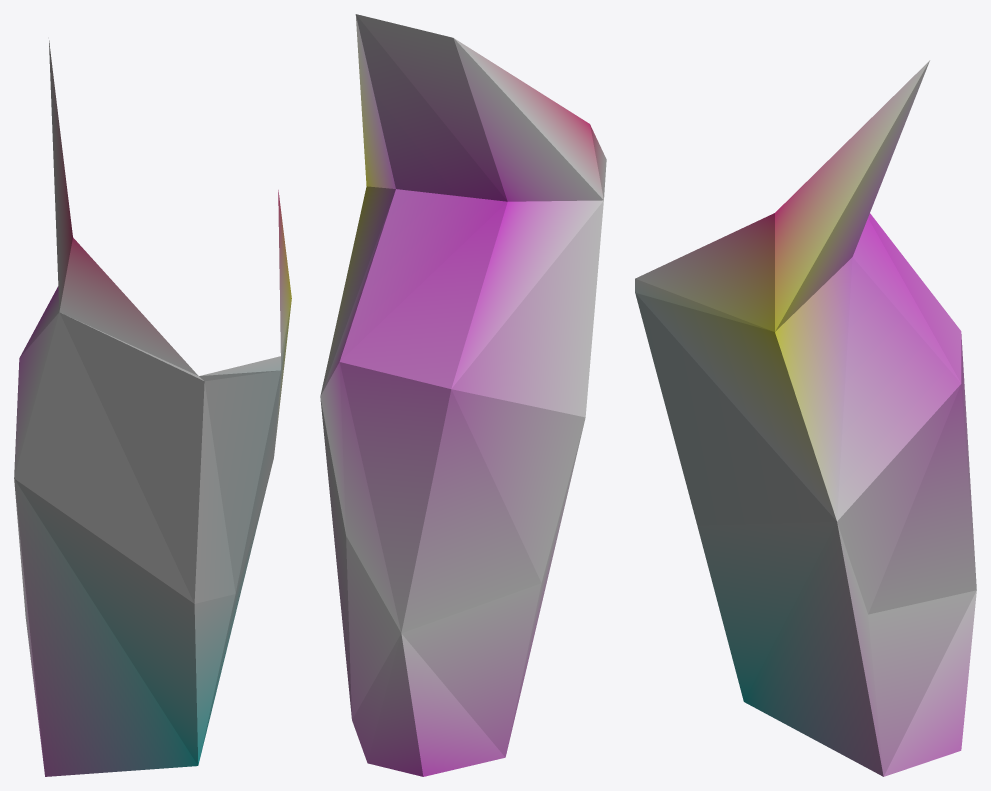
3 views of the same model, side by side, from view 1: azimuth 30°, elevation 25°; view 2: azimuth 150°, elevation 25°; view 3: azimuth 270°, elevation 25° (orthographic). The views are drawn at different scales.
Visible parts, largest first — view 1: model_112F; view 2: model_112F; view 3: model_112F.
Part boxes in pixels (x1,y1,x2,y2): model_112F: (14,40,291,776); model_112F: (320,14,606,776); model_112F: (635,60,976,776).
Bounding box in the file's own units: 19 × 50 × 22.
